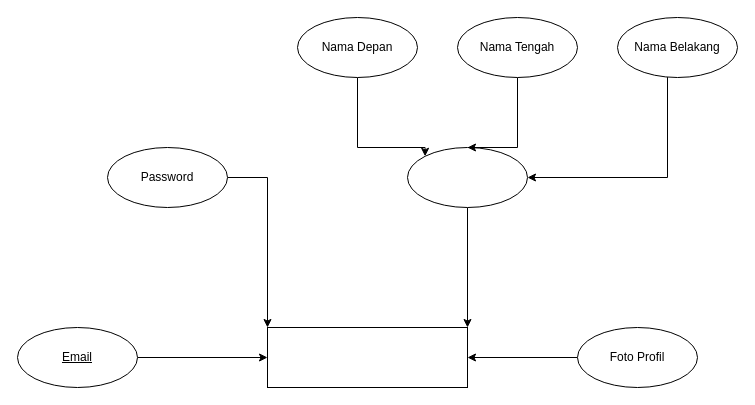
The diagram is 755 pixels wide and 405 high, and some of its shapes have lost their labels. Here are the shapes that lost their labels. From the top down, the centre of each, then its label:
At (467,177): "Nama".
At (367,357): "Pengguna".
